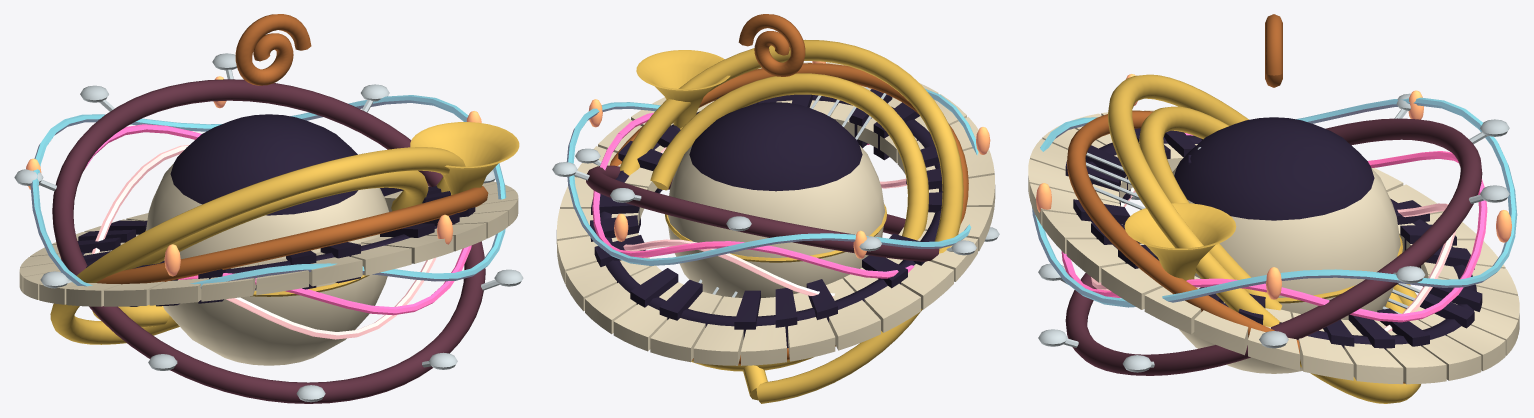
The model's file is planetas.glb.
3 views of the same model, side by side, from view 1: azimuth 30°, elevation 25°; view 2: azimuth 150°, elevation 25°; view 3: azimuth 270°, elevation 25° (orthographic). The views are drawn at different scales.
Parts seen in each view (by area): view 1: piano_core, fagot_ring, corno_ring, piano_ring, coro_ring, cello_ring; view 2: piano_ring, piano_core, corno_ring, coro_ring, fagot_ring, cello_ring; view 3: piano_ring, piano_core, corno_ring, fagot_ring, coro_ring, cello_ring.
Boxes of the visible parts, bbox=[...] form: piano_core: bbox=[145, 114, 388, 365]; fagot_ring: bbox=[14, 53, 523, 403]; corno_ring: bbox=[50, 122, 519, 344]; piano_ring: bbox=[19, 181, 518, 306]; coro_ring: bbox=[26, 76, 506, 339]; cello_ring: bbox=[96, 14, 488, 284]; piano_ring: bbox=[556, 62, 995, 365]; piano_core: bbox=[665, 102, 886, 298]; corno_ring: bbox=[620, 39, 963, 403]; coro_ring: bbox=[566, 61, 990, 296]; fagot_ring: bbox=[552, 148, 999, 261]; cello_ring: bbox=[610, 14, 968, 364]; piano_ring: bbox=[1028, 110, 1519, 384]; piano_core: bbox=[1172, 117, 1402, 373]; corno_ring: bbox=[1108, 74, 1420, 403]; fagot_ring: bbox=[1038, 93, 1509, 375]; coro_ring: bbox=[1032, 74, 1517, 331]; cello_ring: bbox=[1067, 14, 1420, 383].
Size of the model in its own units: 4.11 by 3.19 by 3.78.
